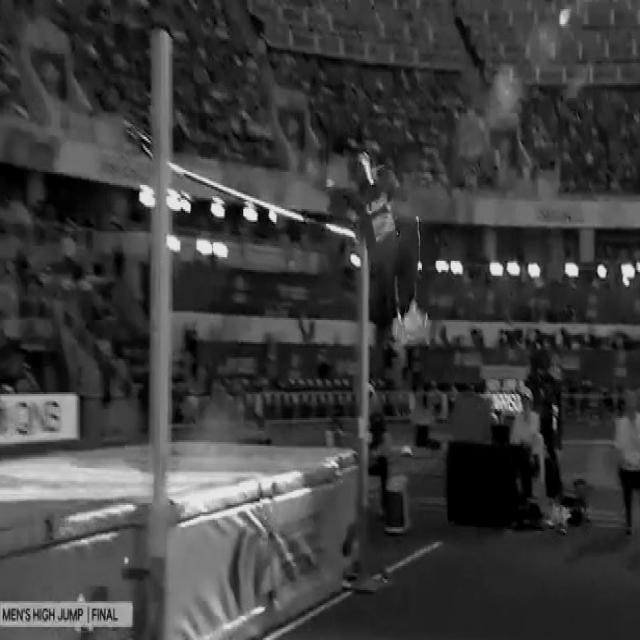land: (326, 142, 426, 348)
